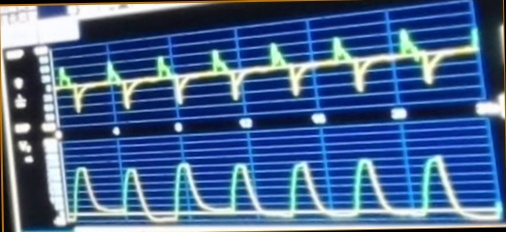Accumulation Flow: (57, 31, 471, 113)
Volume: (68, 154, 491, 222)
